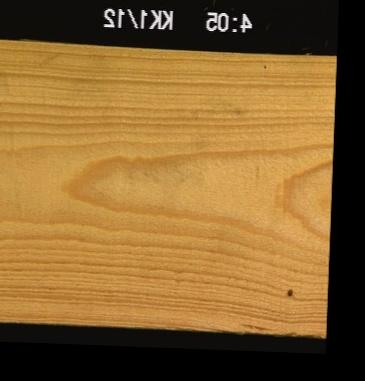dry_knot: (285, 286, 292, 297)
